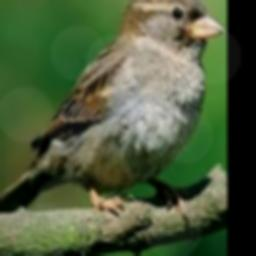Sparrow: (0, 0, 225, 221)
